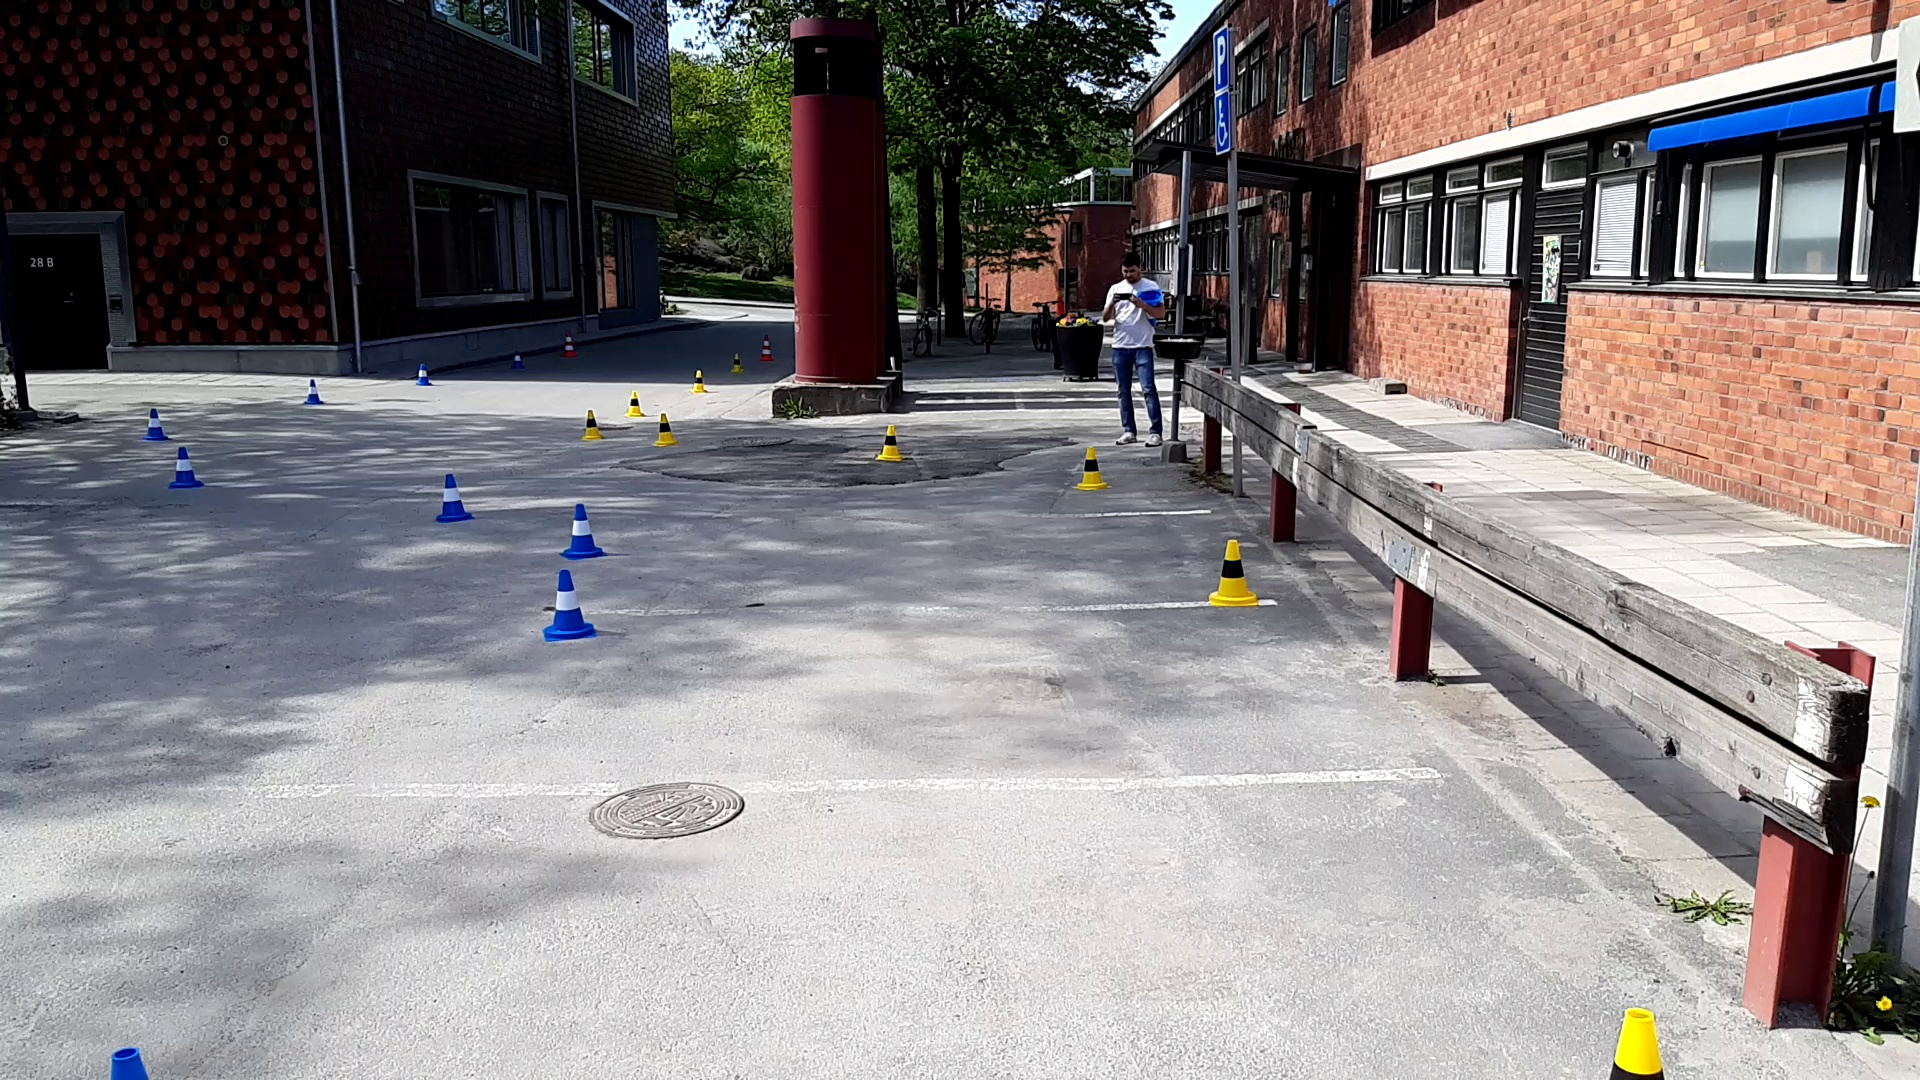Cone: (545, 564, 591, 644), (1204, 538, 1254, 611), (560, 501, 608, 563), (431, 476, 472, 524), (1076, 444, 1110, 495), (170, 447, 203, 493), (876, 419, 906, 465), (578, 404, 607, 443), (649, 411, 680, 447), (142, 405, 167, 443)
